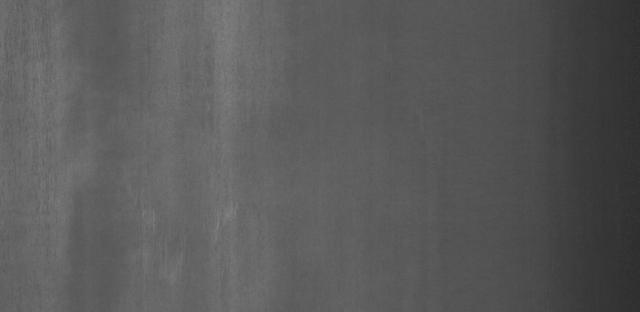silk_spot: (132, 193, 264, 289)
